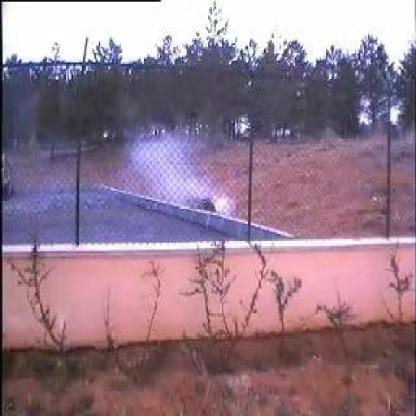-: (48, 137, 248, 241)
